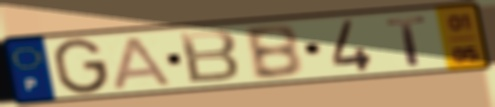4: (330, 18, 375, 73)
A: (111, 35, 176, 91)
B: (241, 22, 307, 82), (175, 28, 243, 86)
G: (52, 37, 112, 97)
T: (382, 14, 431, 68)
